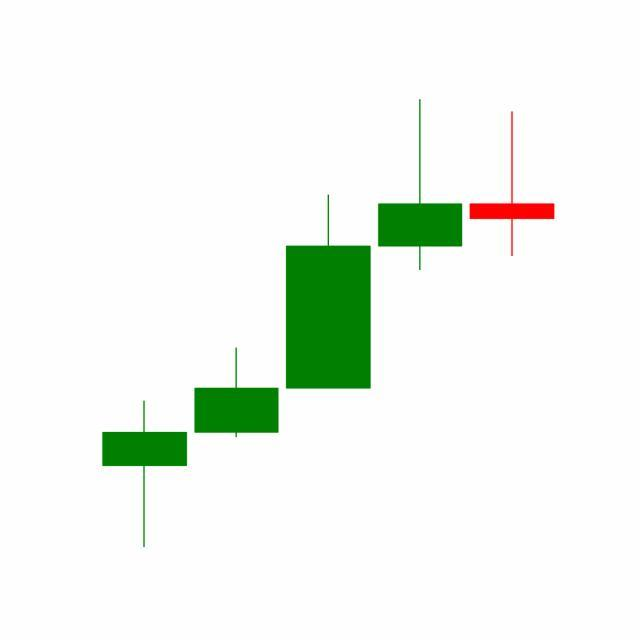Spinning Top: (466, 109, 559, 258)
